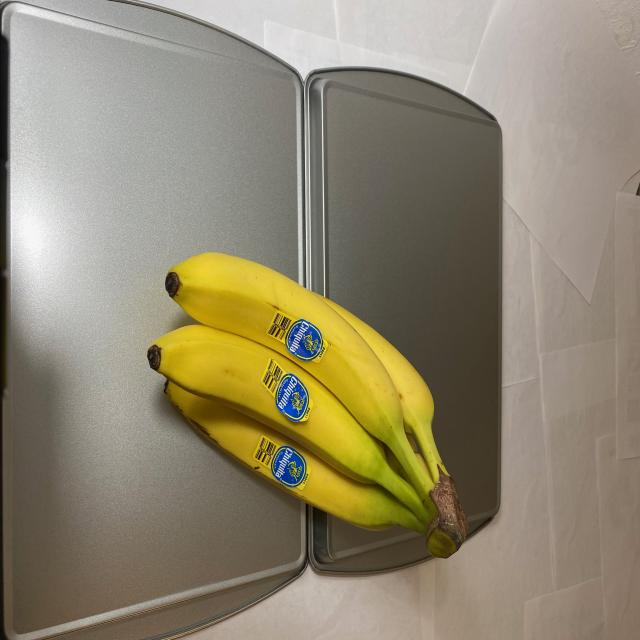banana: (140, 247, 472, 570)
